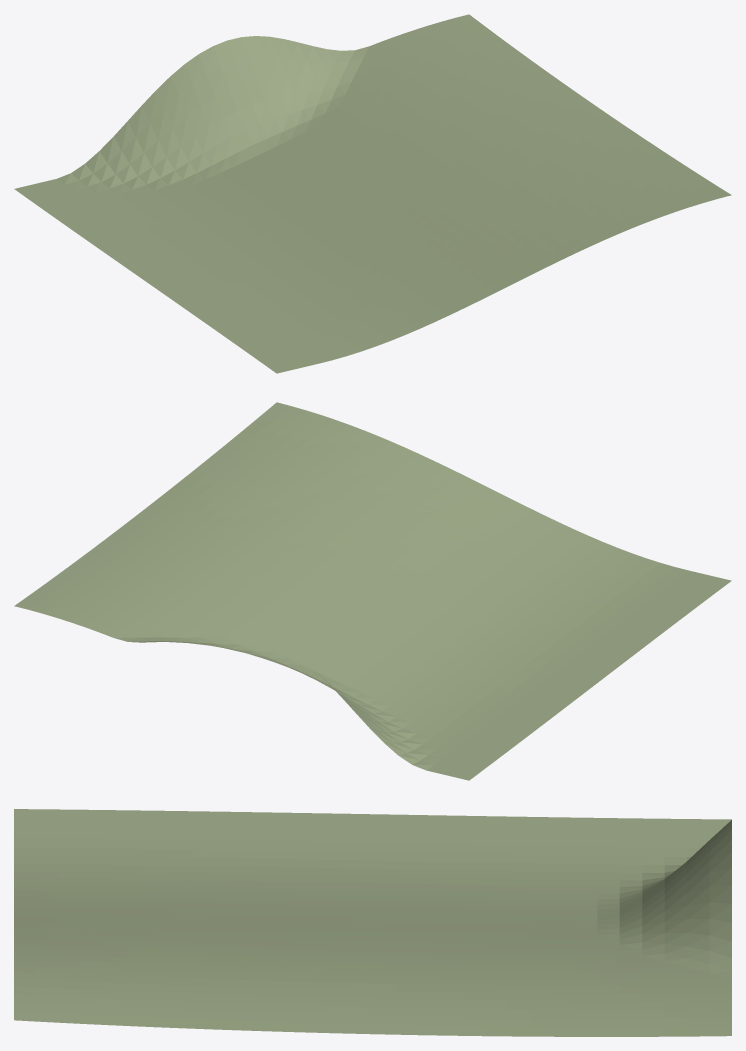
Rendered from expanse-21-25.glb.
3 renders of one model, top to bottom at view 1: azimuth 30°, elevation 25°; view 2: azimuth 150°, elevation 25°; view 3: azimuth 270°, elevation 25°, orthographic. The views are drawn at different scales.
Parts seen in each view (by area): view 1: expanse-21-25; view 2: expanse-21-25; view 3: expanse-21-25.
Boxes of the visible parts, bbox=[...] form: expanse-21-25: bbox=[14, 14, 731, 373]; expanse-21-25: bbox=[14, 402, 731, 780]; expanse-21-25: bbox=[14, 809, 731, 1036].
Bounding box in the file's own units: 256 × 51.96 × 256.
